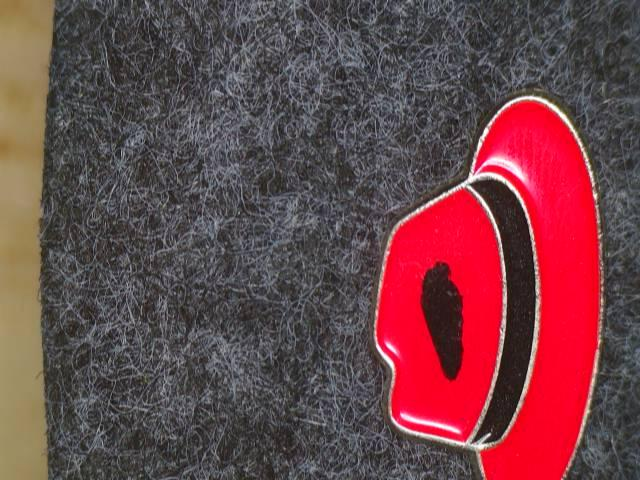Red-Hat: (334, 60, 626, 480)
Scratch: (404, 247, 486, 394)
